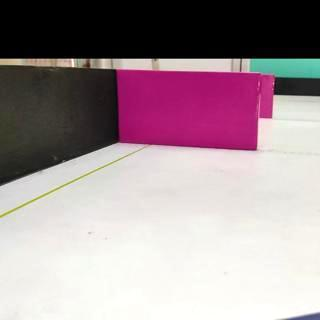xparking: (121, 72, 256, 148)
